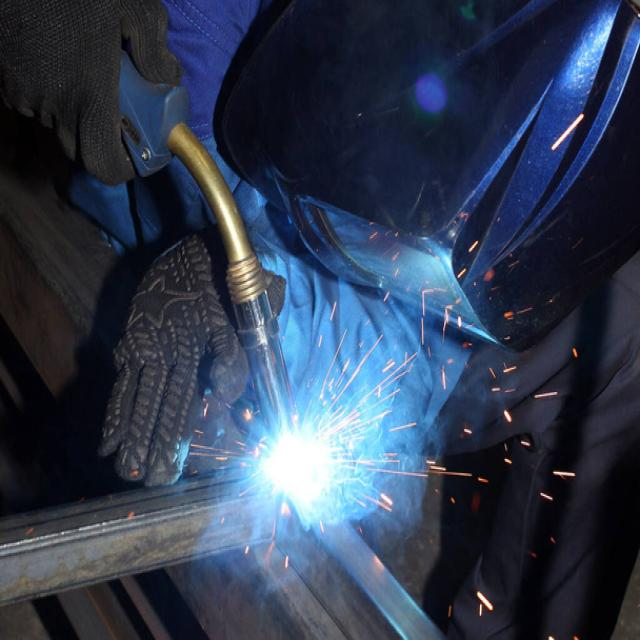welding: (265, 432, 330, 495)
